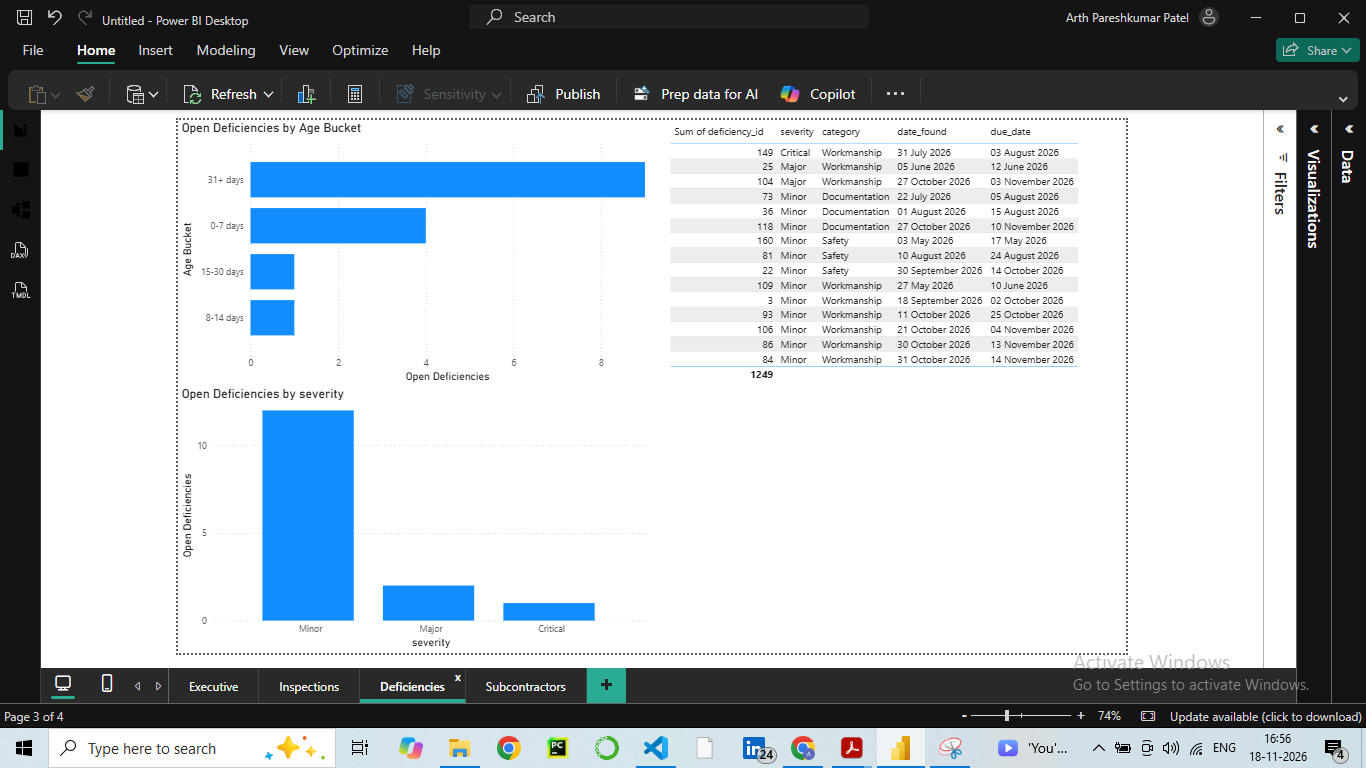

The dashboard page shown, as its layout file describes it:
{"tool":"powerbi","page":{"name":"Deficiencies","canvas":[1280,720],"ordinal":2},"visuals":[{"type":"barChart","fields":{"Category":["deficiencies.Age Bucket"],"Y":["inspections.Open Deficiencies"]},"box":[0,0,640,360],"z":0},{"type":"columnChart","fields":{"Category":["deficiencies.severity"],"Y":["inspections.Open Deficiencies"]},"box":[0,360,640,360],"z":1000},{"type":"tableEx","fields":{"Values":["Sum(deficiencies.deficiency_id)","deficiencies.severity","deficiencies.category","deficiencies.date_found","deficiencies.due_date"]},"box":[660,0,620,360],"z":2000}]}

Visuals, with their boxes on the page's 1280x720 design canvas (x1, y1, x2, y2). These are canvas units, not pixel positions in the 1366x768 screenshot, which may show the page scaled, cropped or inside an application window:
barChart - deficiencies.Age Bucket x inspections.Open Deficiencies: bbox=(0, 0, 640, 360)
columnChart - deficiencies.severity x inspections.Open Deficiencies: bbox=(0, 360, 640, 720)
tableEx - Sum(deficiencies.deficiency_id) x deficiencies.severity: bbox=(660, 0, 1280, 360)
